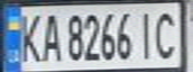2: (81, 10, 103, 62)
6: (115, 8, 139, 61), (100, 9, 121, 61)
8: (63, 10, 84, 62)
A: (36, 10, 63, 63)
C: (151, 7, 181, 60)
I: (133, 7, 160, 60)
K: (15, 9, 45, 63)
